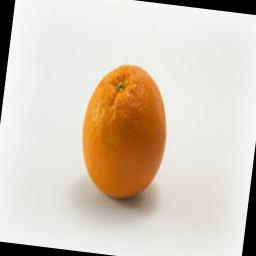Orange Ripe: (70, 53, 176, 207)
